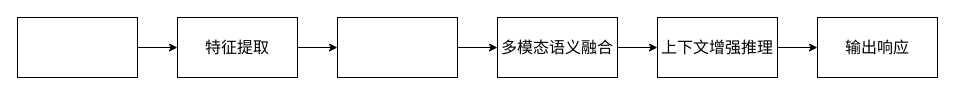
This 955x95 diagram has some shape labels left out. The centre of each missing label's shape, as x and y in pixels:
数据采集: point (77, 47)
模态对齐: point (397, 47)
